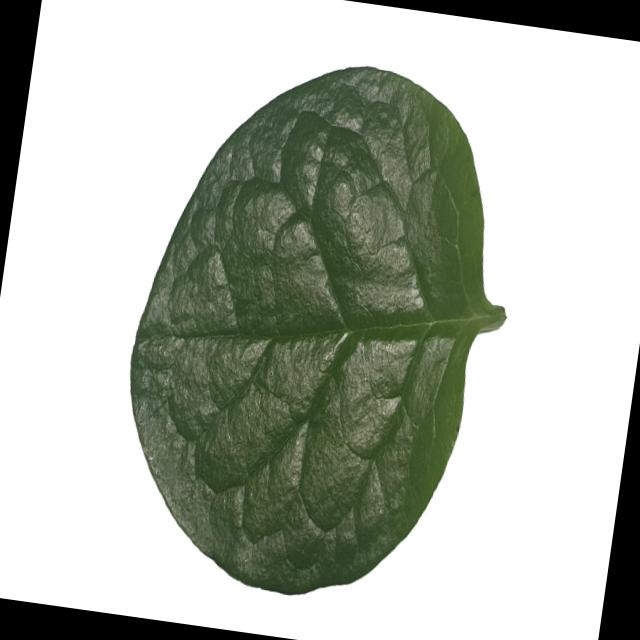Medicinal-Basale: (102, 41, 540, 620)
